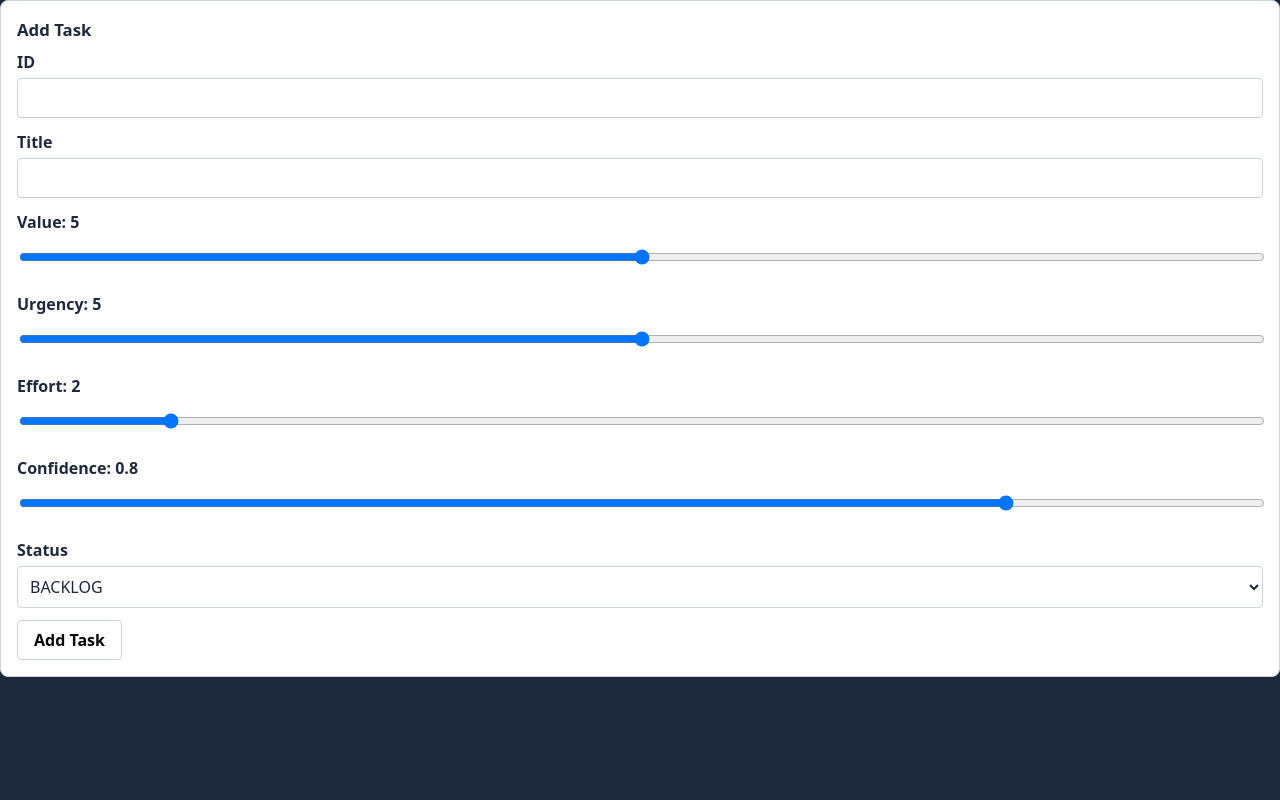
Test: TaskForm › shows error for empty ID
The width and height of the screenshot is (1280, 800).
Type "No ID" into the field with test id "task-title-input" at (640,178), box [17,158,1263,198]
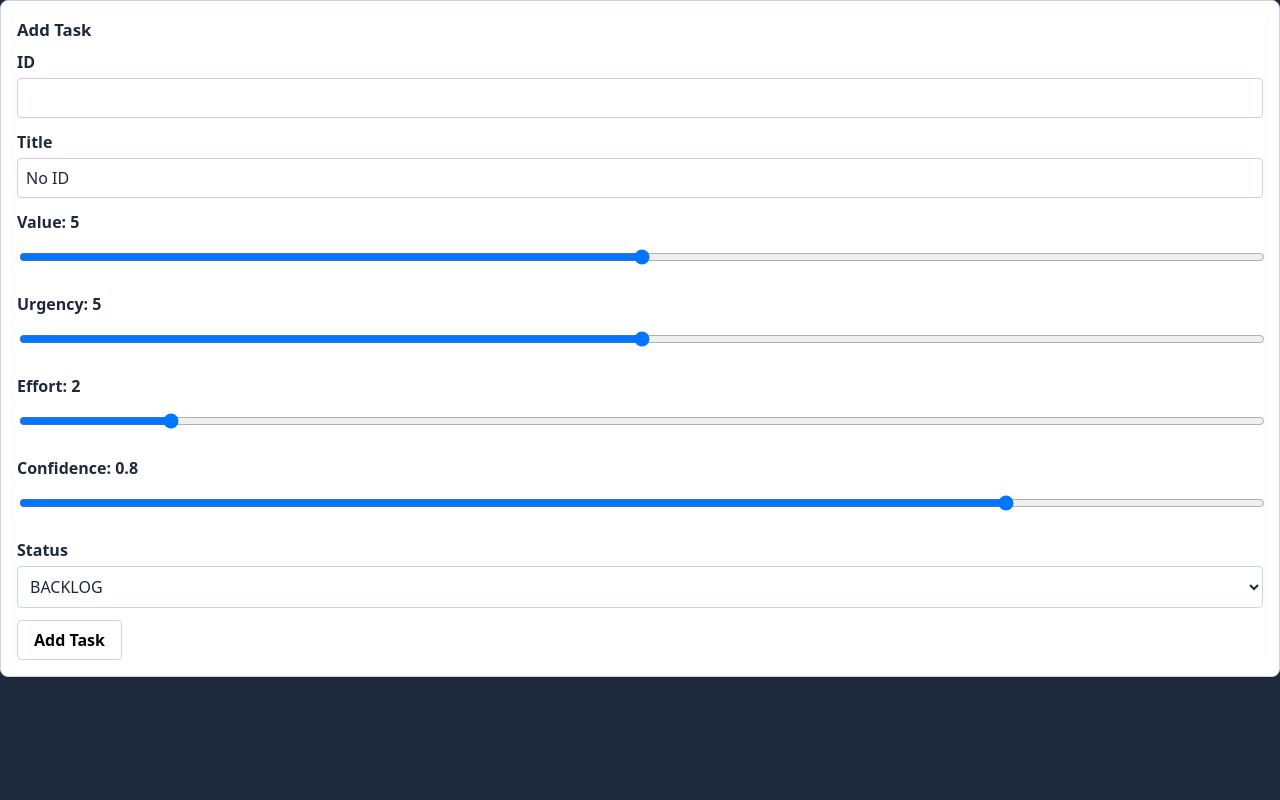
Submit the form with test id "task-form"
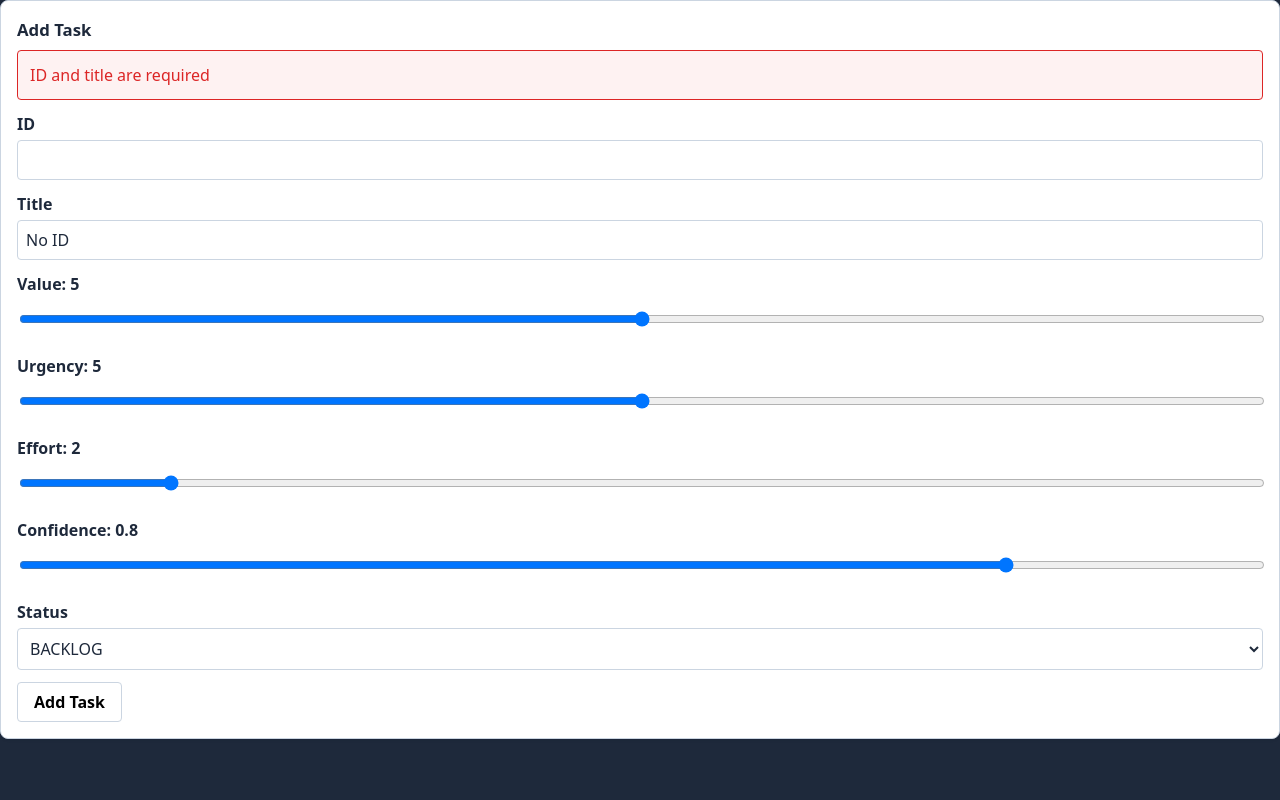
Now the message "ID and title are required" is shown, box [17,50,1263,100]
